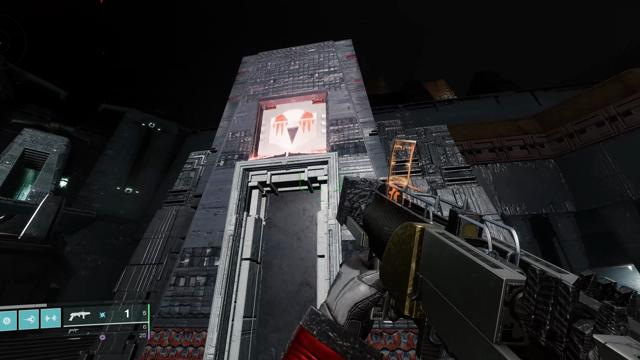give: (269, 109, 317, 148)
